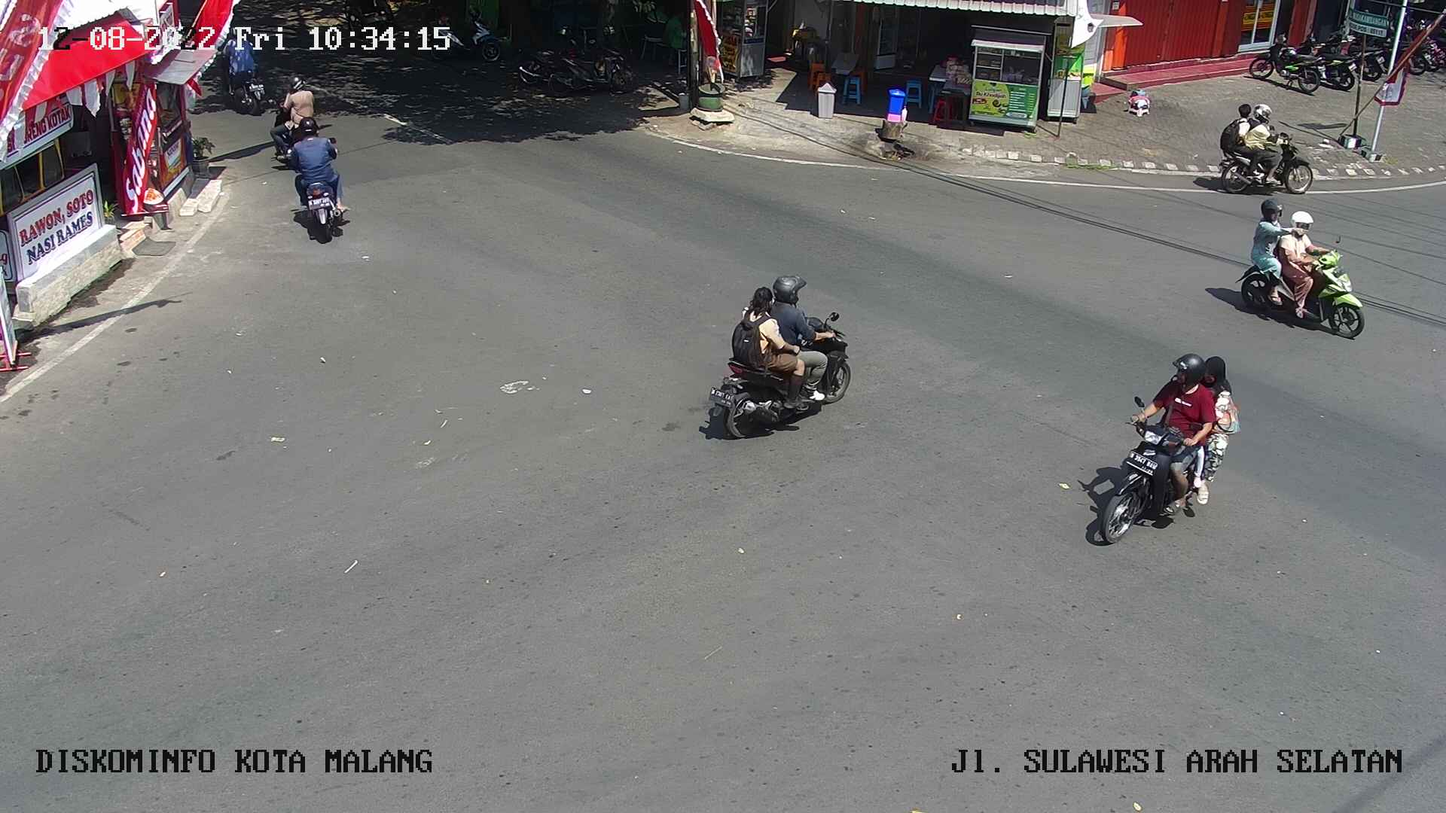with_helmet: (1231, 198, 1370, 347), (279, 112, 355, 252), (266, 71, 321, 166)
without_helmet: (683, 265, 885, 453), (1076, 345, 1246, 558), (1215, 97, 1319, 201)
